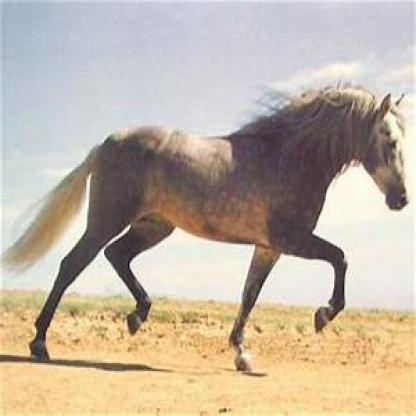horse: (3, 79, 413, 371)
